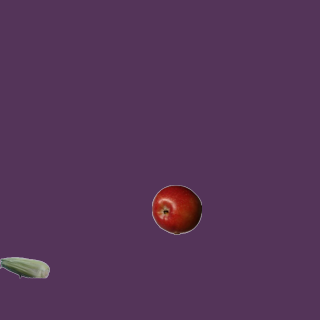Apple Braeburn: (151, 184, 201, 234)
Corn Husk: (0, 242, 49, 292)
